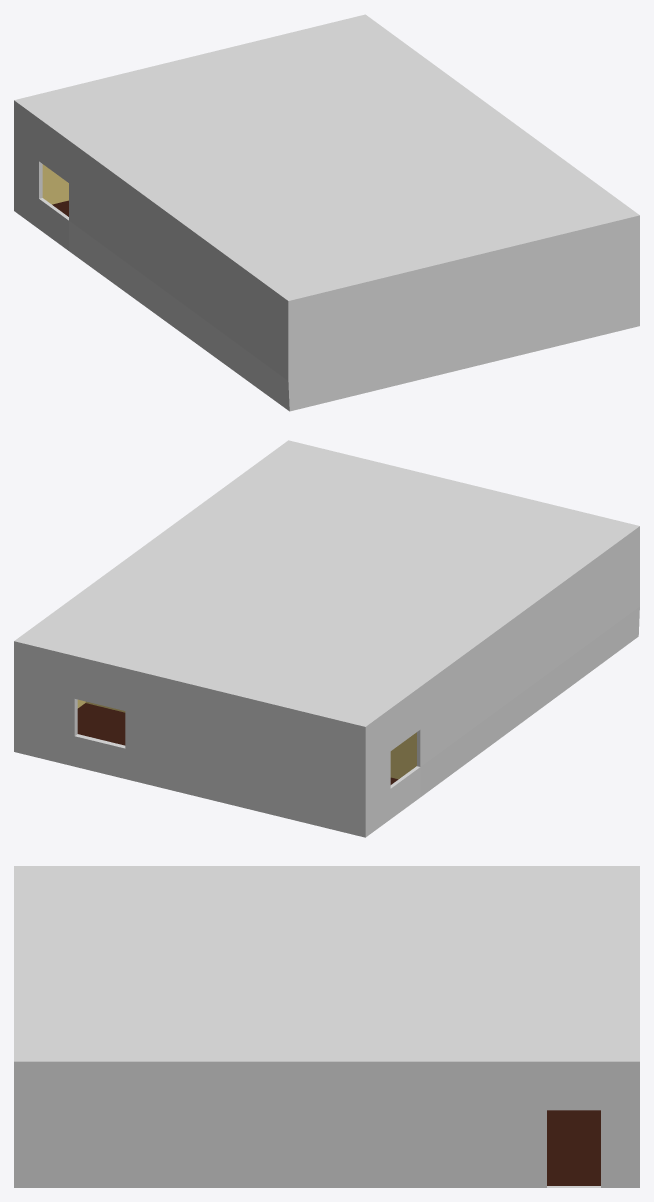
The model's file is stealth-house_without_walls.glb.
3 renders of one model, top to bottom at view 1: azimuth 30°, elevation 25°; view 2: azimuth 150°, elevation 25°; view 3: azimuth 270°, elevation 25°, orthographic. The views are drawn at different scales.
Parts seen in each view (by area): view 1: walls; view 2: walls, walls-inside; view 3: walls.
Part boxes in pixels (x1,y1,x2,y2): walls: (14, 14, 639, 411); walls: (14, 440, 639, 837); walls-inside: (85, 701, 416, 779); walls: (14, 866, 639, 1187).
Size of the model in its own units: 3.43 by 1.04 by 4.64.
